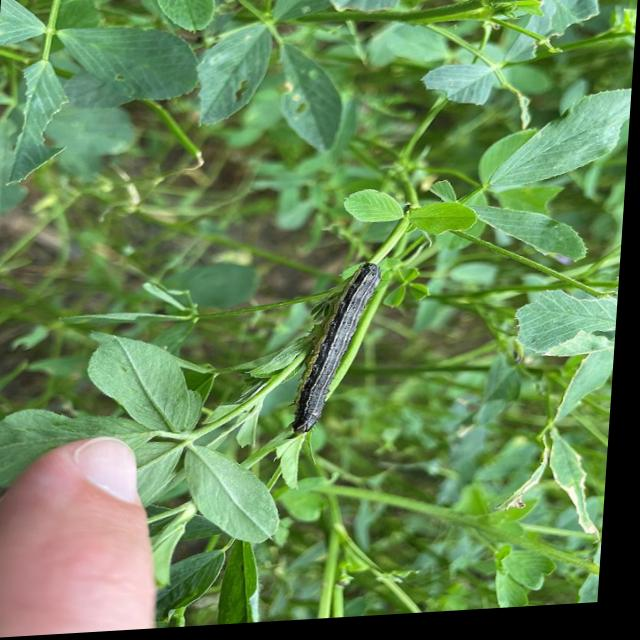Fall-Armyworm: (293, 264, 388, 445)
